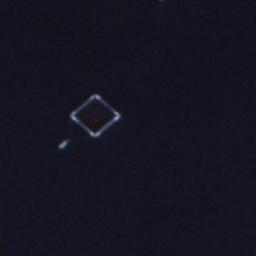square_solid: (66, 88, 126, 143)
